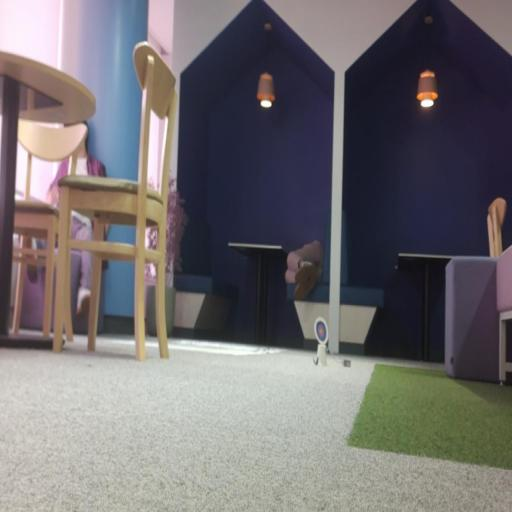target: (314, 317, 328, 346)
